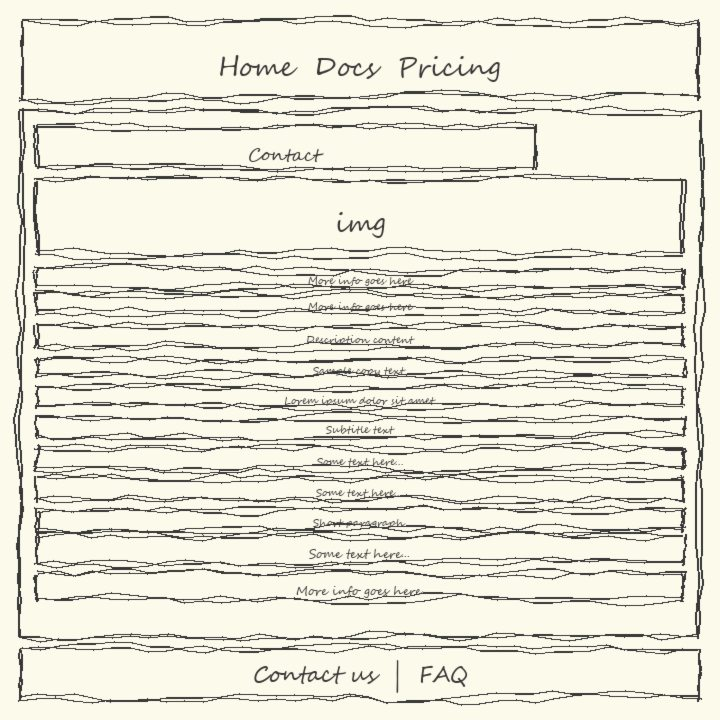card: (37, 180, 683, 254), (37, 126, 534, 168), (37, 573, 683, 601), (37, 536, 683, 563), (37, 478, 683, 501), (37, 325, 683, 347), (37, 447, 683, 469), (37, 268, 683, 288), (37, 510, 683, 530), (37, 418, 683, 437), (37, 295, 683, 313), (37, 358, 683, 376), (37, 388, 683, 406)
footer: (21, 649, 699, 699)
navbar: (21, 21, 699, 99)
section: (21, 110, 699, 637)
